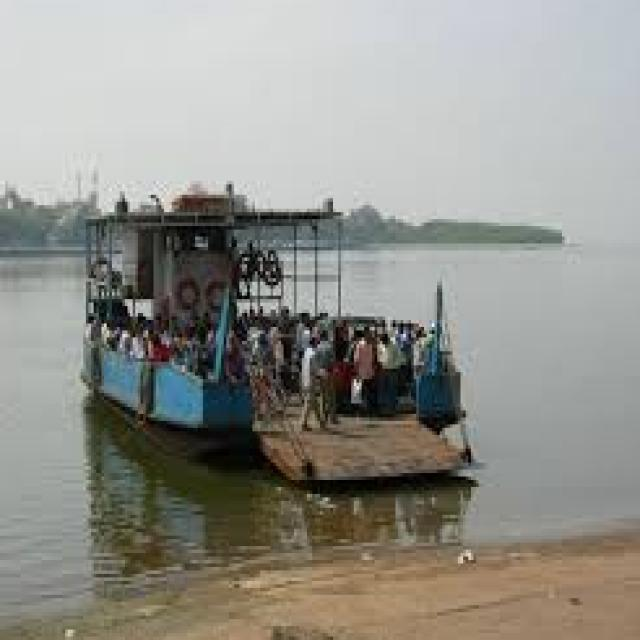passenger ship: (82, 154, 464, 444)
